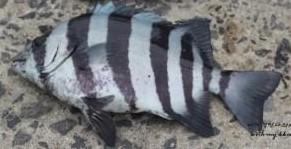fish: (14, 2, 280, 144)
